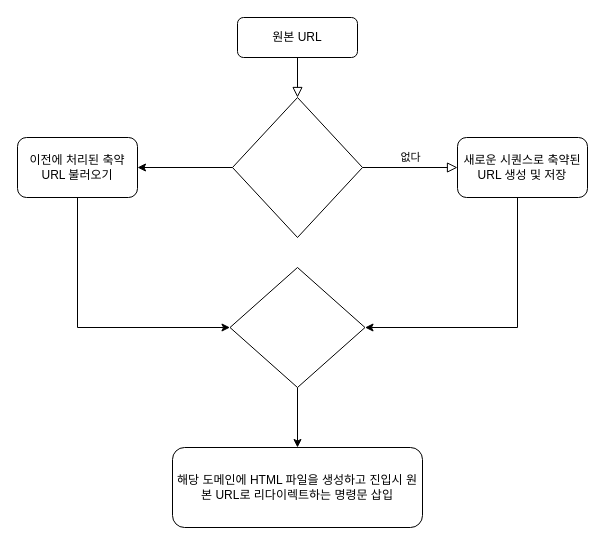
Some shapes in this 605 by 545 pixel diagram are drawn without their labels. The shapes that lost their labels are listed below. From the top down, each one's box as (x1, y1, x2, y2) in pixels, then its label:
(232, 96, 362, 238): 이전에 처리된 축약 URL이 있는가?
(229, 266, 365, 388): 요청 횟수를 증가시키고 저장
